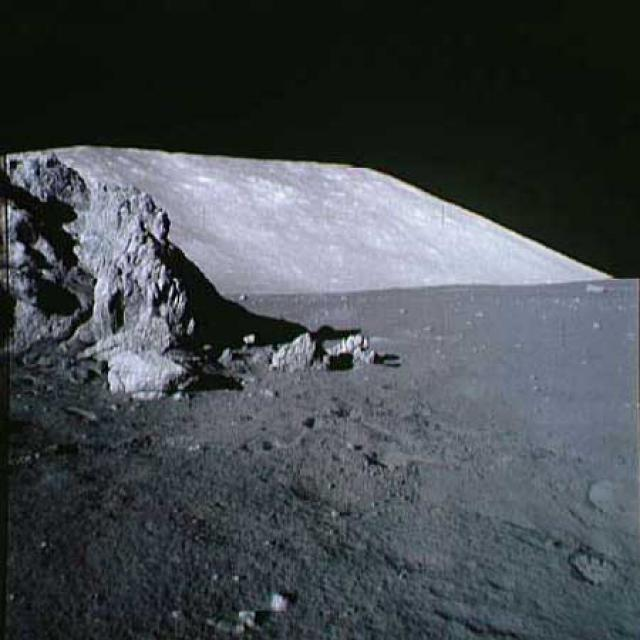rock: (3, 150, 222, 403), (260, 326, 319, 374), (316, 330, 380, 370), (216, 341, 254, 376)
